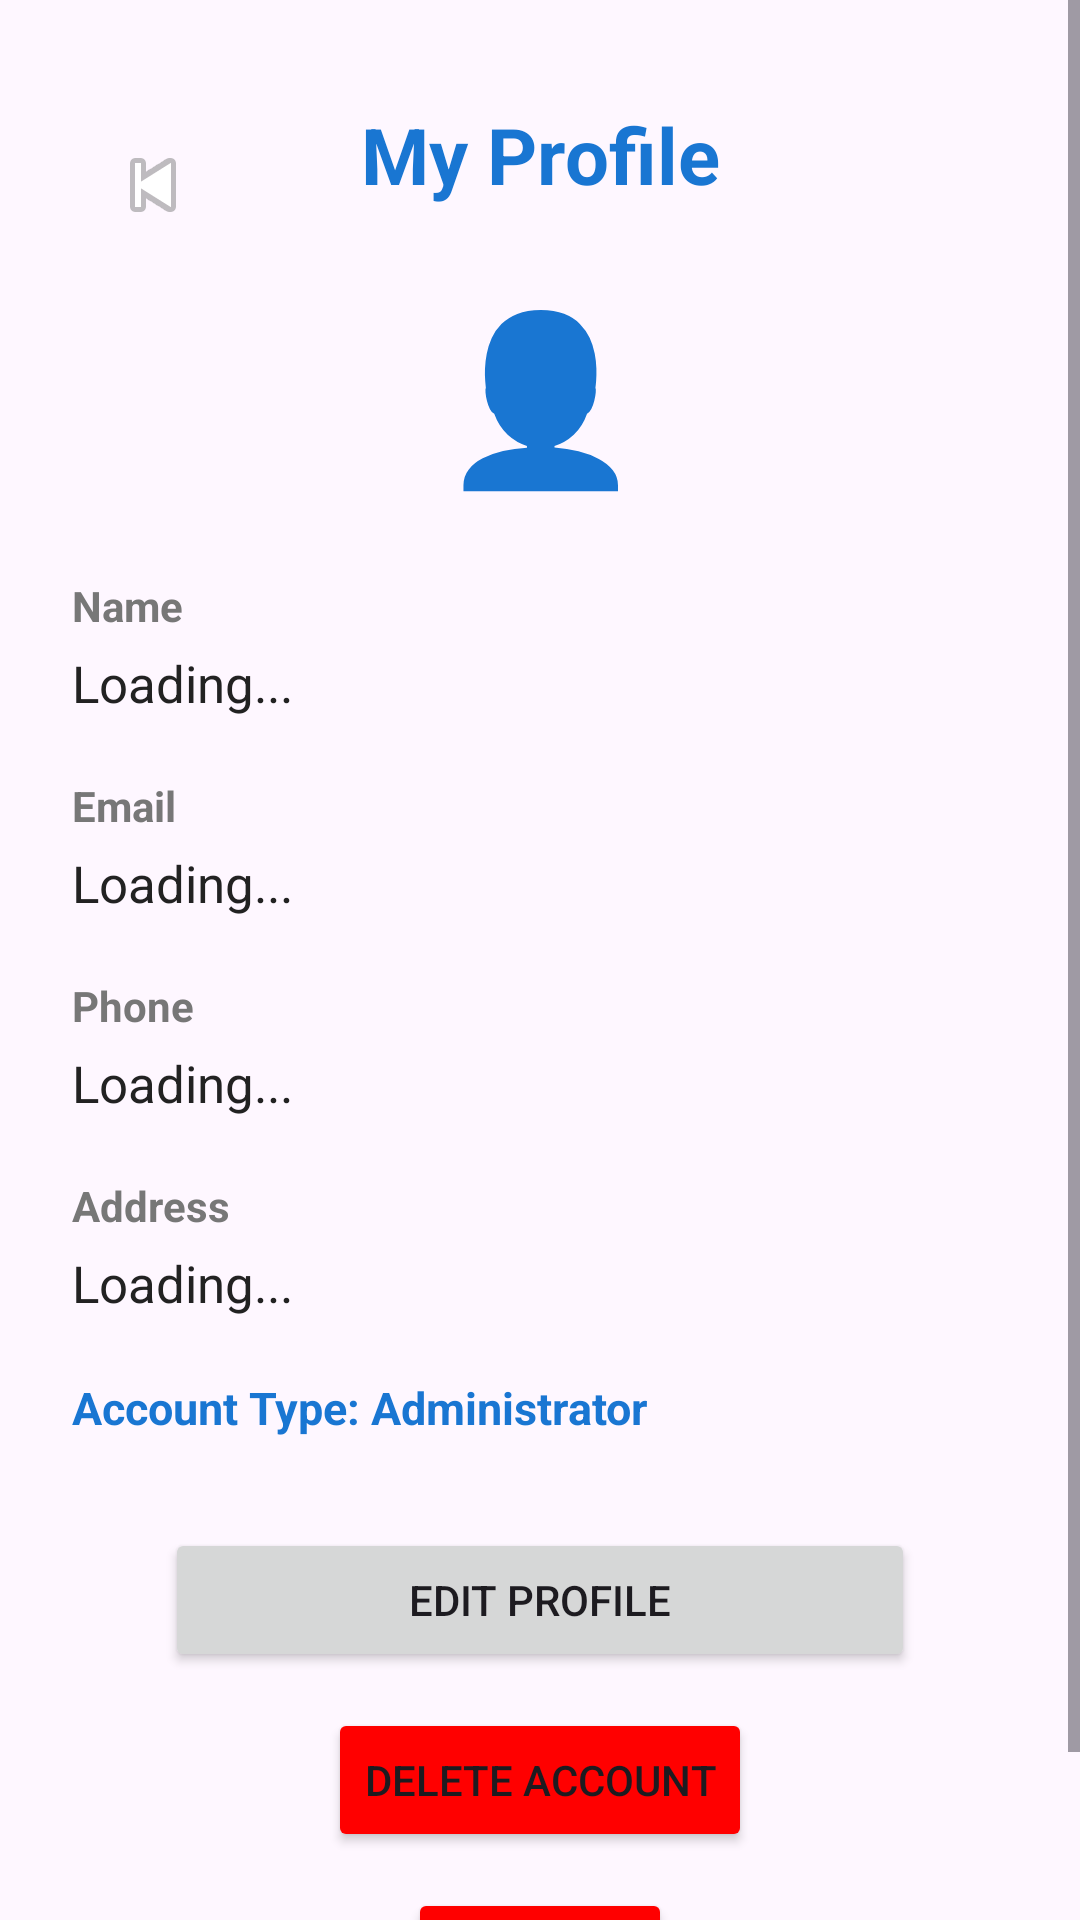

Where icons sit on this 1080*1920 app screen, as (x1,y1,x2,y2):
Back: (130,158,176,212)
